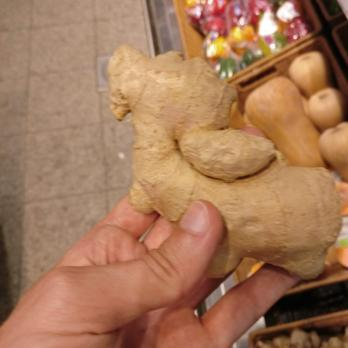Ginger: (108, 39, 345, 279)
